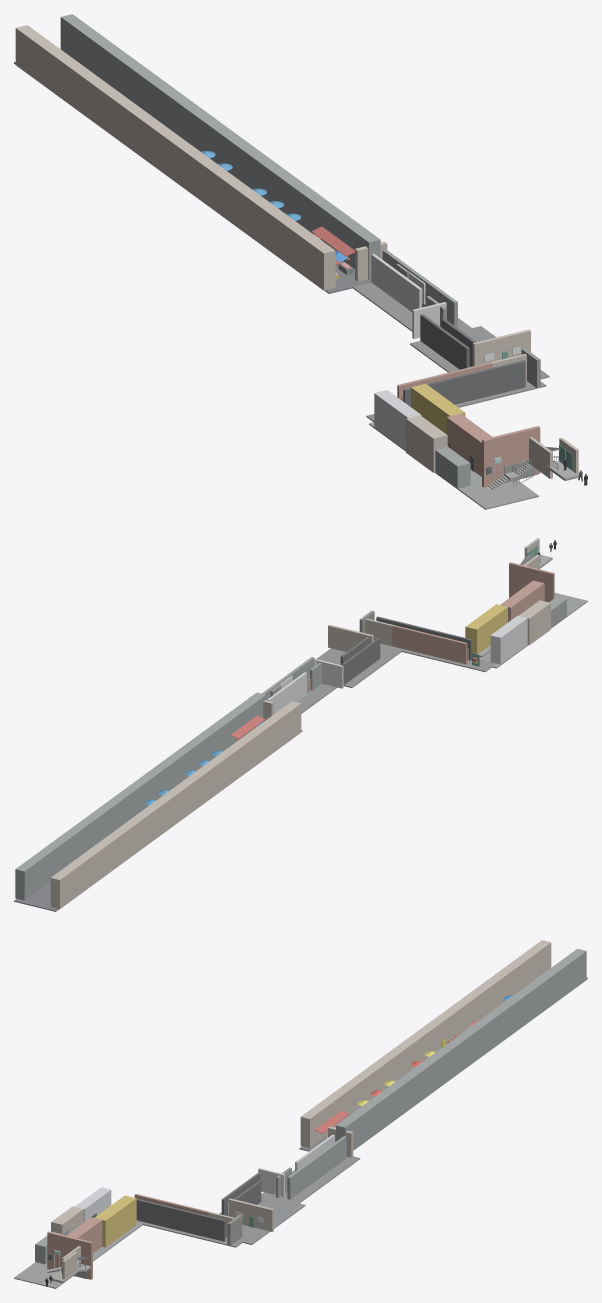
The picture shows the model from 3 angles, top to bottom: view 1: azimuth 30°, elevation 25°; view 2: azimuth 150°, elevation 25°; view 3: azimuth 330°, elevation 25°; orthographic projection. The views are drawn at different scales.
Visible parts, largest first — view 1: S03_WestMarketBuildings, S03_EastMarketBuildings, S01_BrickBgBuilding, S02_SouthWall1, S01_AlleyGround, S01_GreenShutterBuilding, S01_WhiteTileWall, S02_StraightWhiteWall, S01_RightTileBuilding, S02_DarkCorridorWallL, S01_YellowStoreBuilding, S02_CreamTileWall (+7 smaller); view 2: S03_WestMarketBuildings, S03_EastMarketBuildings, S02_NorthWall1, S01_WhiteTileWall, S01_YellowStoreBuilding, S01_BrickBgBuilding, S02_FloorLeg2, S01_RightTileBuilding, S01_GreenShutterBuilding, S02_DarkCorridorWallL, S02_CreamTileWall, S02_StraightWhiteWall (+3 smaller); view 3: S03_EastMarketBuildings, S03_WestMarketBuildings, S02_SouthWall1, S02_StraightRightBrick, S01_YellowStoreBuilding, S01_BrickBgBuilding, S02_FloorLeg2, S01_AlleyGround, S02_CreamTileWall, S02_FloorLeg3, S01_WhiteTileWall, S01_RightTileBuilding (+3 smaller).
Boxes of the visible parts, x1,y1,x2,y2 form: S03_WestMarketBuildings: (15,25,335,290); S03_EastMarketBuildings: (60,14,380,279); S01_BrickBgBuilding: (482,426,540,487); S02_SouthWall1: (403,366,498,406); S01_AlleyGround: (369,422,538,509); S01_GreenShutterBuilding: (406,415,447,472); S01_WhiteTileWall: (374,390,421,449); S02_StraightWhiteWall: (371,254,422,311); S01_RightTileBuilding: (446,413,492,476); S02_DarkCorridorWallL: (420,314,469,369); S01_YellowStoreBuilding: (411,383,465,434); S02_CreamTileWall: (472,329,530,366); S03_WestMarketBuildings: (50,701,301,909); S03_EastMarketBuildings: (15,692,265,900); S02_NorthWall1: (392,625,467,664); S01_WhiteTileWall: (490,616,527,664); S01_YellowStoreBuilding: (465,604,507,654); S01_BrickBgBuilding: (509,562,554,602); S02_FloorLeg2: (314,643,403,687); S01_RightTileBuilding: (500,580,544,622); S01_GreenShutterBuilding: (519,600,550,645); S02_DarkCorridorWallL: (341,637,380,684); S02_CreamTileWall: (328,624,373,651); S02_StraightWhiteWall: (267,672,306,713); S03_EastMarketBuildings: (336,948,586,1150); S03_WestMarketBuildings: (300,940,551,1148); S02_SouthWall1: (136,1198,204,1236); S02_StraightRightBrick: (287,1136,346,1199); S01_YellowStoreBuilding: (94,1195,136,1247); S01_BrickBgBuilding: (47,1231,92,1279); S02_FloorLeg2: (219,1196,305,1244); S01_AlleyGround: (14,1222,142,1288); S02_CreamTileWall: (228,1198,273,1231); S02_FloorLeg3: (261,1156,360,1204); S01_WhiteTileWall: (74,1187,111,1222); S01_RightTileBuilding: (66,1217,102,1252).
Size of the model in its own units: 32.05 by 8.35 by 177.
